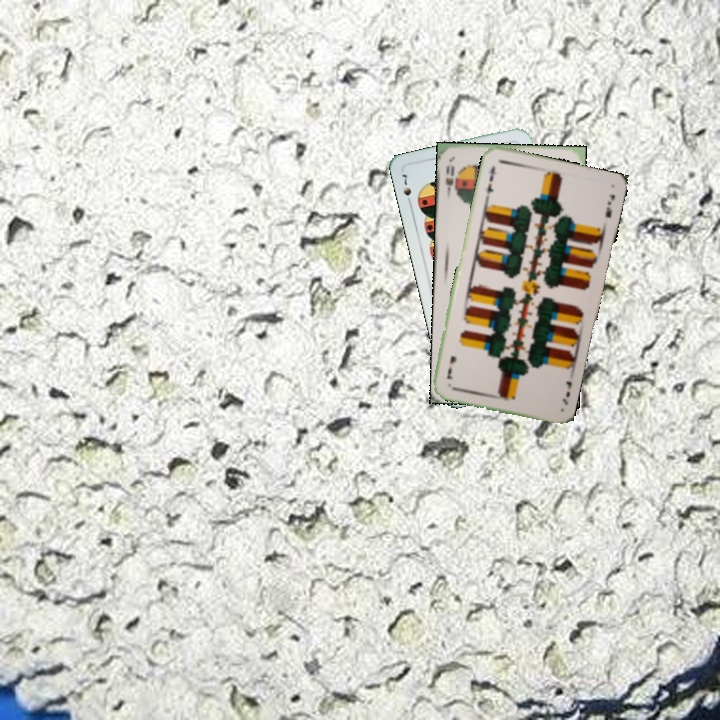E7: (482, 161, 499, 200), (558, 377, 575, 407)
S7: (398, 170, 414, 209)
SO: (441, 162, 457, 198)
